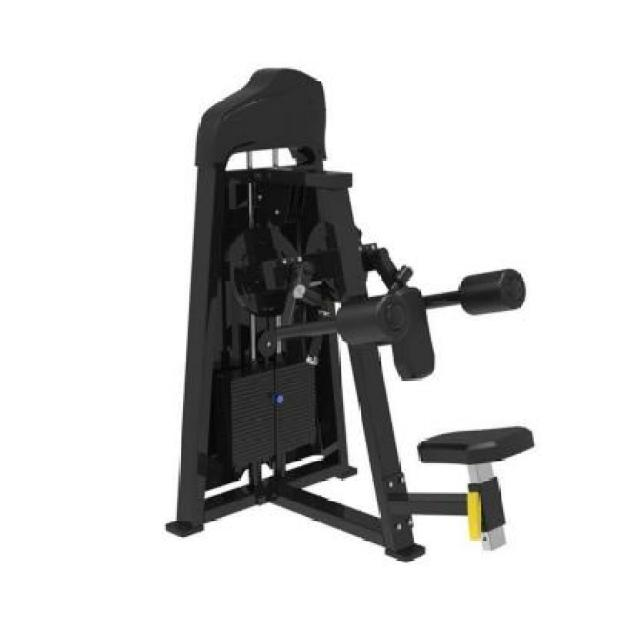lateral raises machine: (164, 66, 536, 565)
